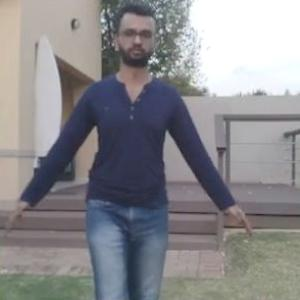land: (8, 40, 232, 299)
